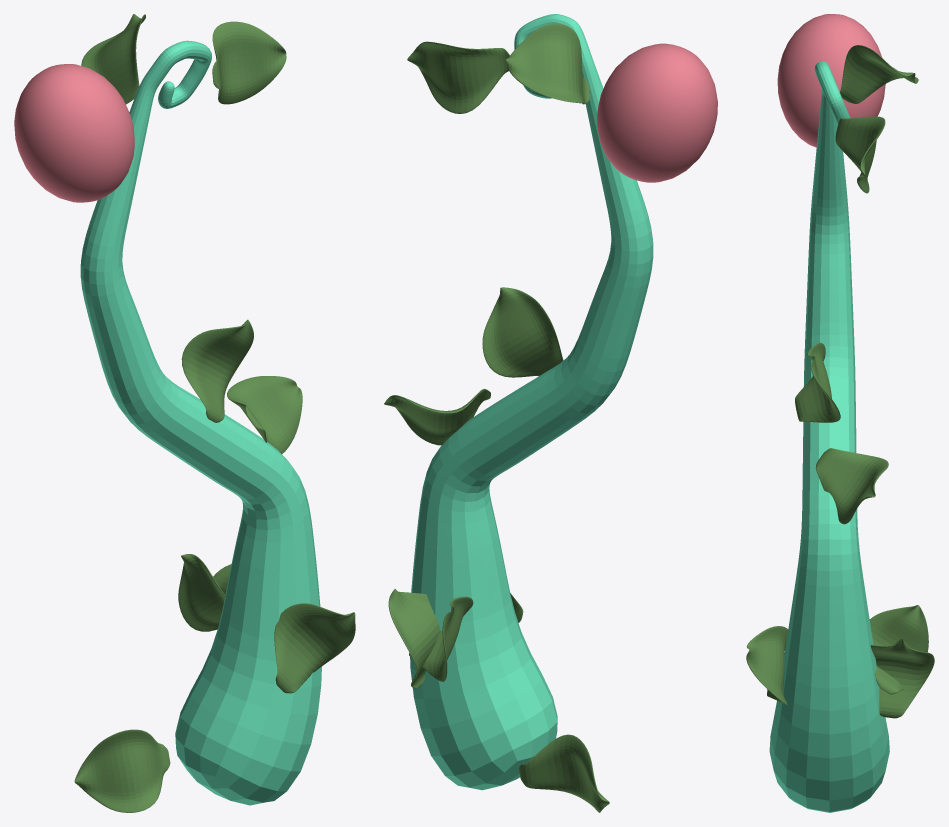
Rendered from Beanstalk#03_fixed.fbx.
The picture shows the model from 3 angles, left to right: view 1: azimuth 30°, elevation 25°; view 2: azimuth 150°, elevation 25°; view 3: azimuth 270°, elevation 25°; orthographic projection. The views are drawn at different scales.
Parts seen in each view (by area): view 1: Vert.001, Sphere, Vert.001|Plane.006|Dupli|5, Vert.001|Plane.006|Dupli|, Vert.001|Plane.006|Dupli|2, Vert.001|Plane.006|Dupli|4, Vert.001|Plane.006|Dupli|7, Vert.001|Plane.006|Dupli|3, Vert.001|Plane.006|Dupli|6; view 2: Vert.001, Sphere, Vert.001|Plane.006|Dupli|4, Vert.001|Plane.006|Dupli|2, Vert.001|Plane.006|Dupli|3, Vert.001|Plane.006|Dupli|5, Vert.001|Plane.006|Dupli|1, Vert.001|Plane.006|Dupli|7, Vert.001|Plane.006|Dupli|6; view 3: Vert.001, Sphere, Vert.001|Plane.006|Dupli|7, Vert.001|Plane.006|Dupli|1, Vert.001|Plane.006|Dupli|6, Vert.001|Plane.006|Dupli|3, Vert.001|Plane.006|Dupli|, Vert.001|Plane.006|Dupli|2, Vert.001|Plane.006|Dupli|4.
Part boxes in pixels (<box>): Vert.001: <box>80,40,321,805</box>; Sphere: <box>14,64,134,202</box>; Vert.001|Plane.006|Dupli|5: <box>74,729,170,812</box>; Vert.001|Plane.006|Dupli|: <box>274,603,355,693</box>; Vert.001|Plane.006|Dupli|2: <box>212,21,286,104</box>; Vert.001|Plane.006|Dupli|4: <box>181,319,253,422</box>; Vert.001|Plane.006|Dupli|7: <box>227,376,302,453</box>; Vert.001|Plane.006|Dupli|3: <box>81,14,145,104</box>; Vert.001|Plane.006|Dupli|6: <box>178,554,225,631</box>; Vert.001: <box>410,14,653,790</box>; Sphere: <box>597,43,717,182</box>; Vert.001|Plane.006|Dupli|4: <box>482,287,563,377</box>; Vert.001|Plane.006|Dupli|2: <box>407,41,509,113</box>; Vert.001|Plane.006|Dupli|3: <box>506,23,589,104</box>; Vert.001|Plane.006|Dupli|5: <box>519,734,609,812</box>; Vert.001|Plane.006|Dupli|1: <box>388,589,440,688</box>; Vert.001|Plane.006|Dupli|7: <box>384,388,490,445</box>; Vert.001|Plane.006|Dupli|6: <box>409,596,473,681</box>; Vert.001: <box>769,61,889,812</box>; Sphere: <box>777,14,885,147</box>; Vert.001|Plane.006|Dupli|7: <box>815,448,888,524</box>; Vert.001|Plane.006|Dupli|1: <box>870,638,934,718</box>; Vert.001|Plane.006|Dupli|6: <box>869,605,928,694</box>; Vert.001|Plane.006|Dupli|3: <box>840,45,918,103</box>; Vert.001|Plane.006|Dupli|: <box>746,626,788,705</box>; Vert.001|Plane.006|Dupli|2: <box>835,116,885,193</box>; Vert.001|Plane.006|Dupli|4: <box>795,342,840,422</box>.
Bounding box in the file's own units: 146 × 367 × 86.76.
